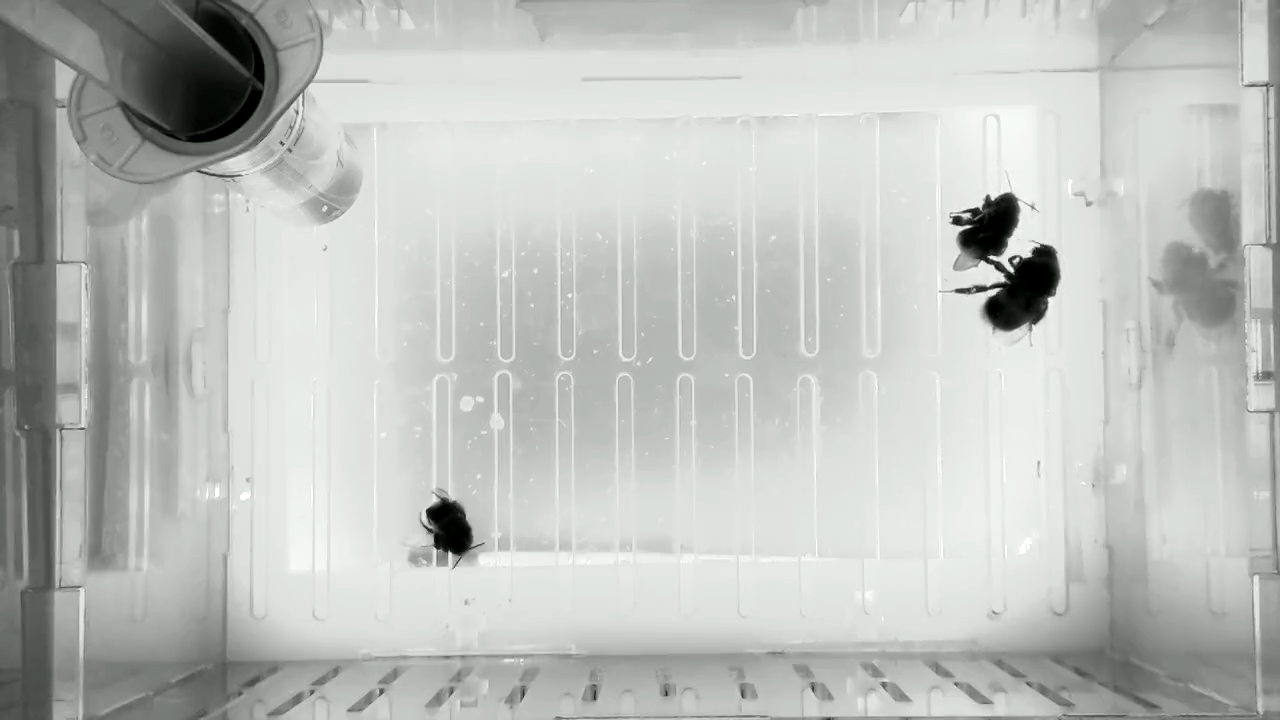bee: (936, 235, 1064, 350), (944, 170, 1041, 273), (415, 485, 487, 572)
feeder: (218, 90, 369, 233)
